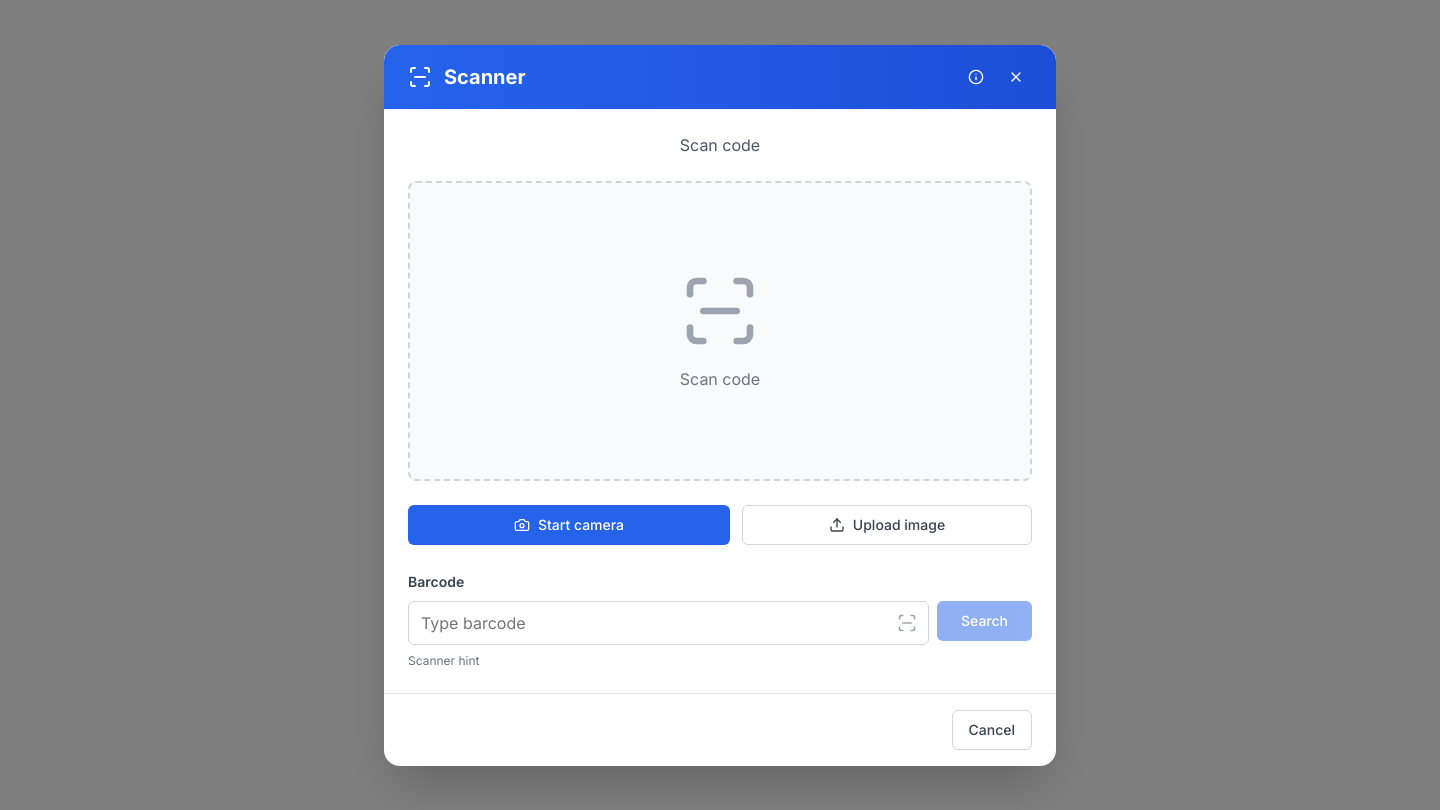
Test: BarcodeScannerModal › shows camera error when scanner start fails
Click the button "Start camera". click: [569, 524]
box: [408,504,730,544]
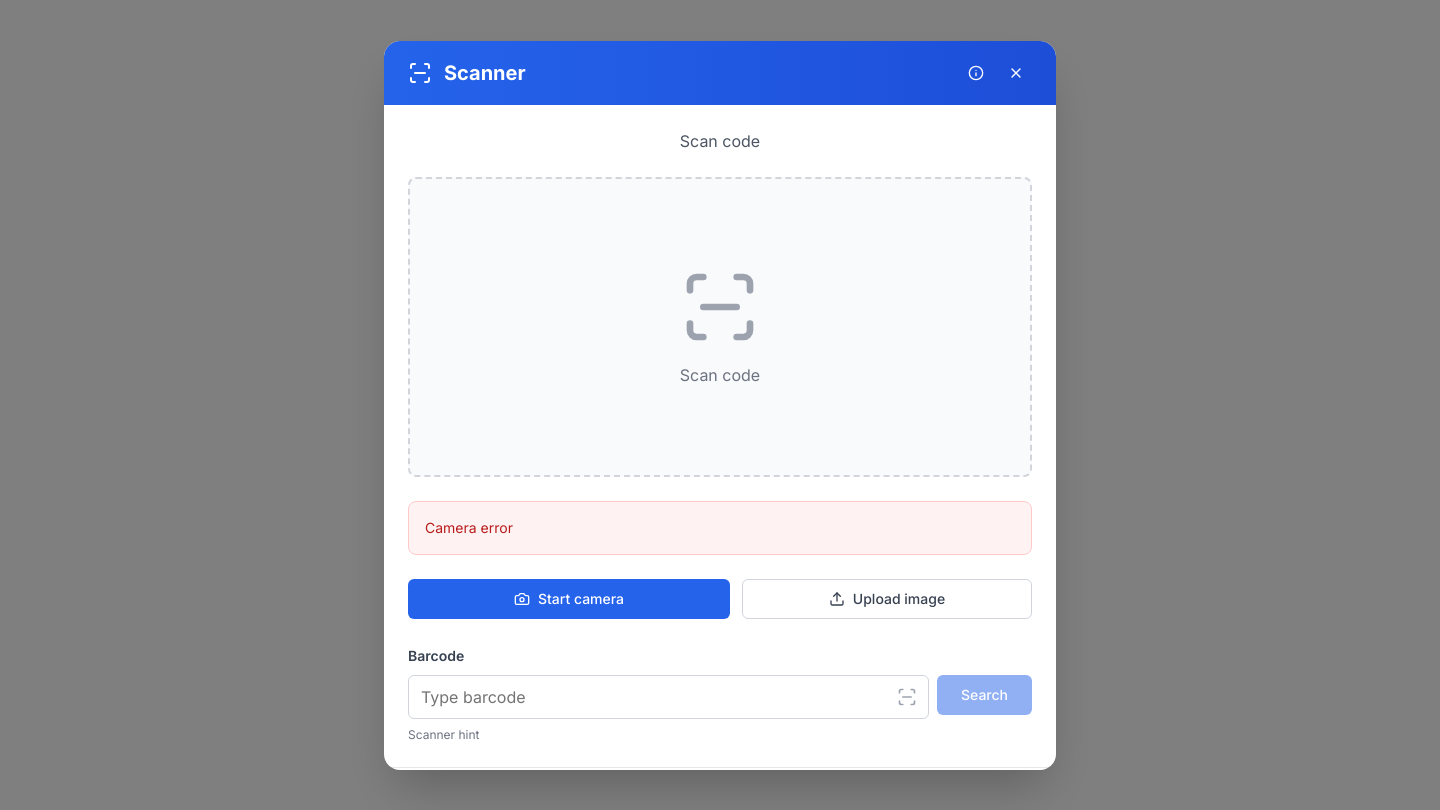
Expected: the text "Camera error" is shown, [425,518,513,536]
